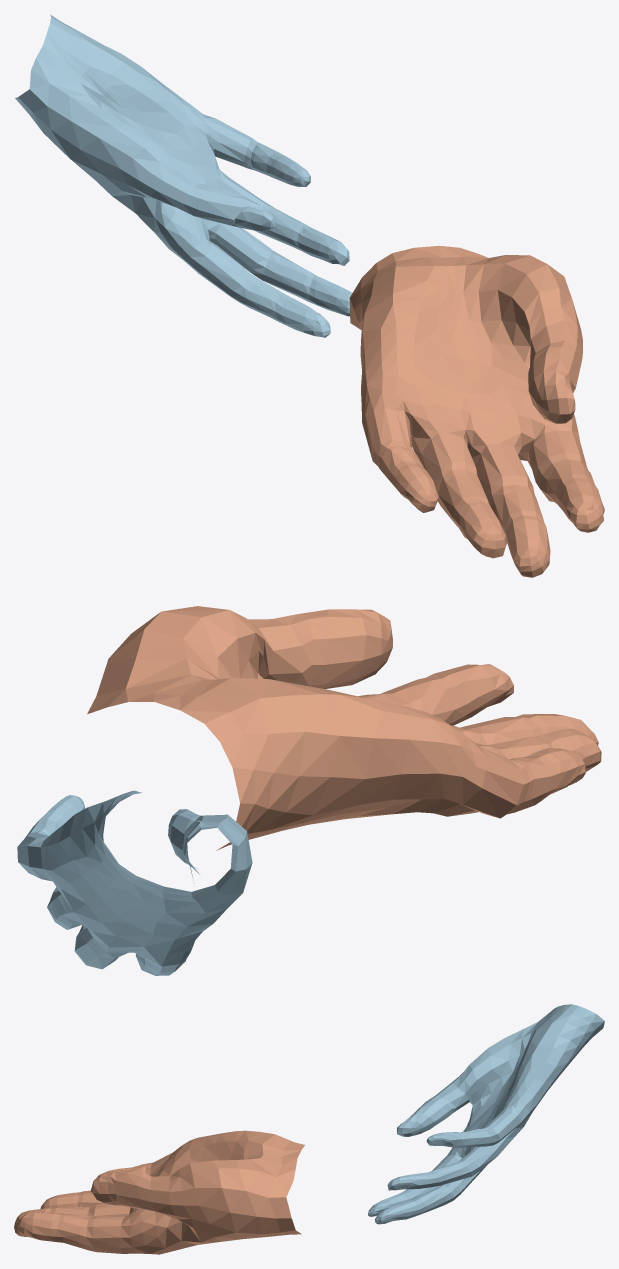
Rendered from frame_018.glb.
The picture shows the model from 3 angles, top to bottom: view 1: azimuth 30°, elevation 25°; view 2: azimuth 150°, elevation 25°; view 3: azimuth 270°, elevation 25°; orthographic projection. The views are drawn at different scales.
Parts seen in each view (by area): view 1: world; view 2: world; view 3: world.
Part boxes in pixels (left/top/right/bottom): world: left=15, top=14, right=604, bottom=577; world: left=17, top=606, right=601, bottom=975; world: left=14, top=1004, right=604, bottom=1254.
Bounding box in the file's own units: 0.1389 × 0.1212 × 0.3232.
